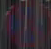No Stopping: (4, 1, 50, 45)
